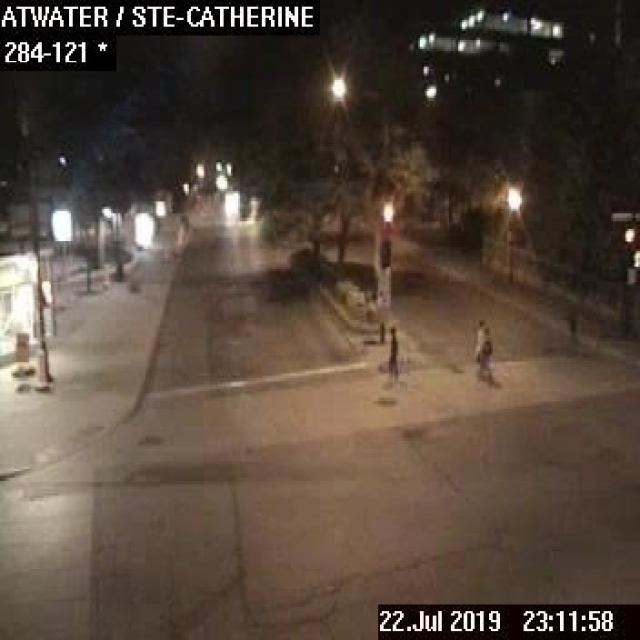construction: (13, 330, 28, 378), (34, 347, 49, 391)
pedestrian: (468, 315, 497, 384), (386, 320, 398, 384)
